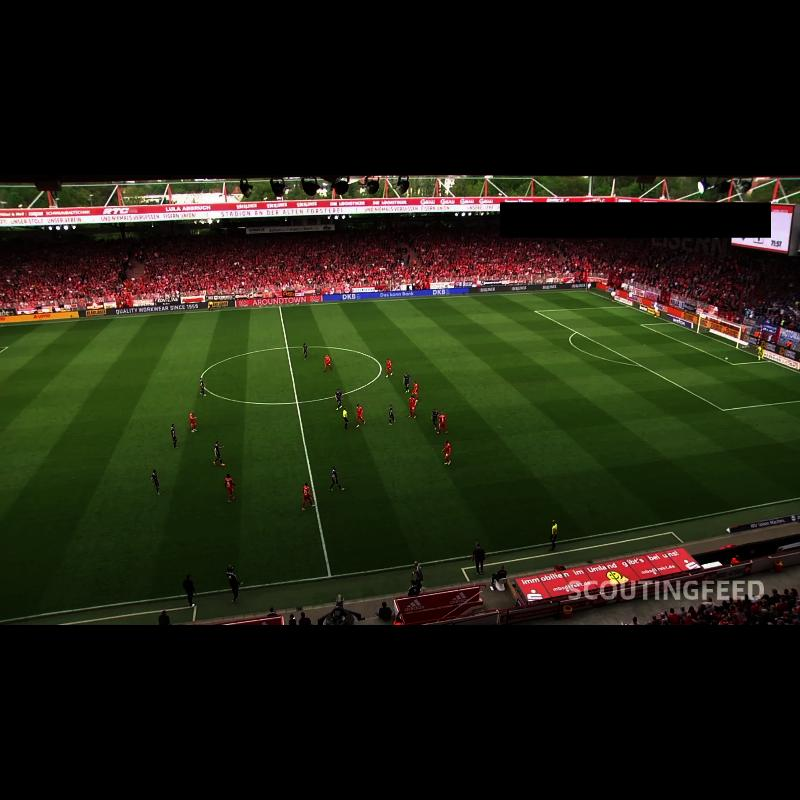cross_recipient_zone: (535, 306, 800, 410), (0, 347, 7, 353)
crossing_player_zone: (622, 401, 800, 510), (438, 290, 628, 314), (0, 318, 114, 347)
pitch: (0, 290, 800, 621)
